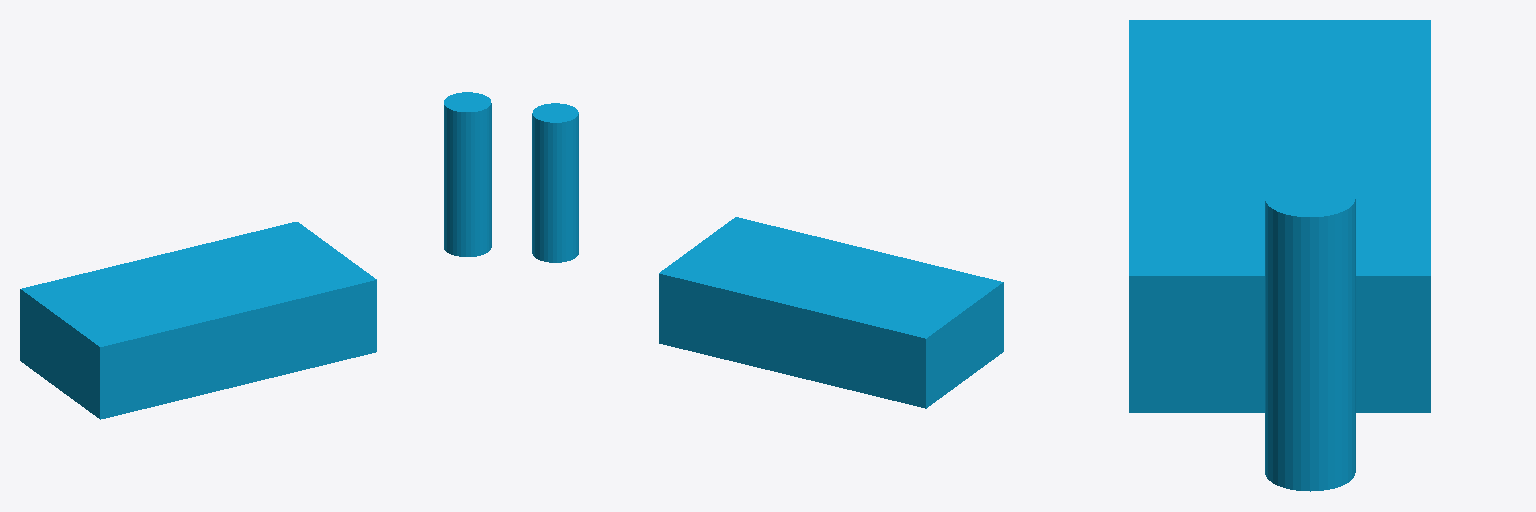
robot.urdf — fixed_frame:
<?xml version="1.0"?>
<!-- CSim-owned parser fixture. Explicit inertias are independent of visuals. -->
<robot name="fixed_frame">
  <material name="cyan"><color rgba="0.1 0.7 0.9 1"/></material>
  <link name="base">
    <inertial>
      <origin xyz="0.1 0 0" rpy="0 0 1.5707963267948966"/>
      <mass value="2"/>
      <inertia ixx="0.02" ixy="0" ixz="0" iyy="0.03" iyz="0" izz="0.04"/>
    </inertial>
    <visual name="base_box">
      <geometry><box size="0.4 0.2 0.1"/></geometry>
      <material name="cyan"/>
    </visual>
  </link>
  <link name="arm">
    <inertial>
      <origin xyz="0 0.1 0"/>
      <mass value="0.5"/>
      <inertia ixx="0.001" ixy="0" ixz="0" iyy="0.002" iyz="0" izz="0.003"/>
    </inertial>
    <visual name="arm_cylinder">
      <origin xyz="0.02 0 0"/>
      <geometry><cylinder radius="0.03" length="0.2"/></geometry>
      <material name="cyan"/>
    </visual>
  </link>
  <joint name="arm_mount" type="fixed">
    <parent link="base"/>
    <child link="arm"/>
    <origin xyz="0.4 0 0.1" rpy="0 0 1.5707963267948966"/>
  </joint>
</robot>

--- Render facts (derived) ---
Views: 3 orthographic renders of the robot side by side, from view 1: azimuth 30°, elevation 25°; view 2: azimuth 150°, elevation 25°; view 3: azimuth 270°, elevation 25°.
Robot: fixed_frame — 2 links, 1 joints (1 fixed); root link base; default pose: every joint at zero.
Links seen in each view (by area): view 1: base, arm; view 2: base, arm; view 3: base, arm.
Boxes of the visible links, left/top/right/bottom form: base: left=20, top=222, right=376, bottom=419; arm: left=444, top=92, right=491, bottom=256; base: left=659, top=217, right=1003, bottom=408; arm: left=532, top=103, right=578, bottom=262; base: left=1129, top=20, right=1430, bottom=412; arm: left=1265, top=179, right=1355, bottom=491.
Bounding box of the posed robot: 0.63 × 0.2 × 0.25 m (x, y, z).
Geometry: primitives only (box / cylinder / sphere), no mesh files.
